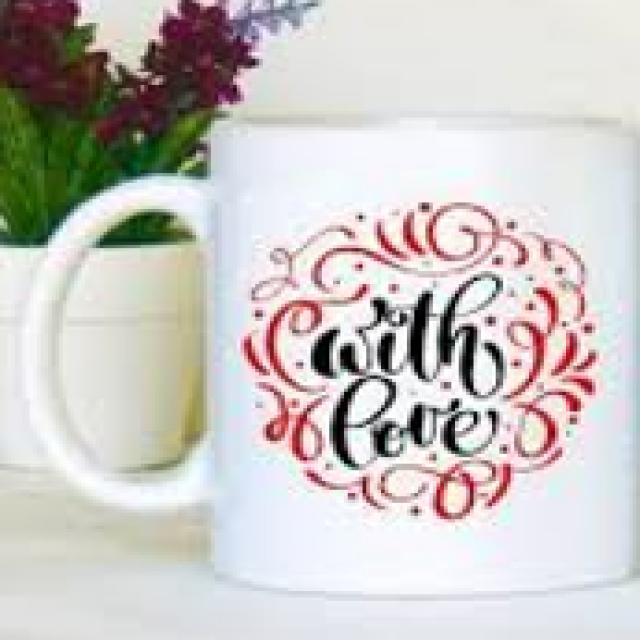taza: (18, 121, 640, 598)
